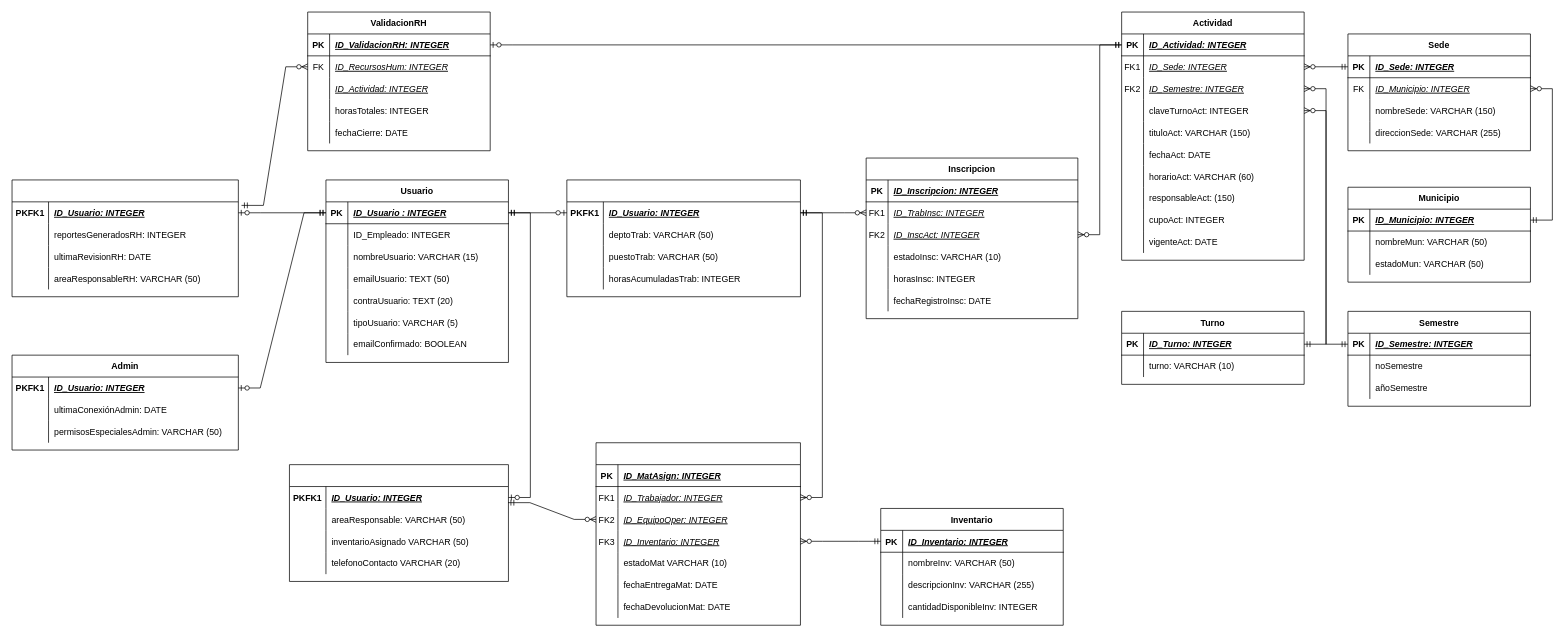
Some shapes in this 1564 by 637 pixel diagram are drawn without their labels. Each missing label, with the box of its shape:
Equipo_Operativo: (289, 464, 508, 581)
MaterialAsignado: (595, 442, 800, 625)
Recursos_Humanos: (11, 179, 238, 297)
Trabajador: (566, 179, 800, 297)
